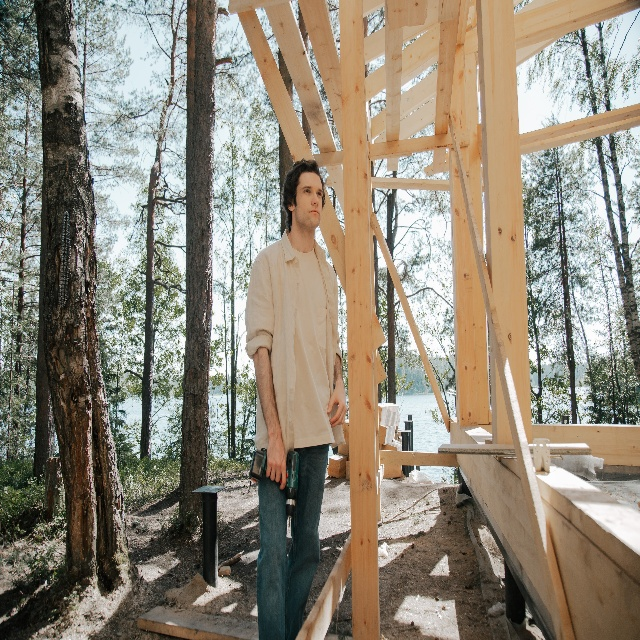Sin_guantes: (325, 380, 346, 425), (267, 435, 285, 485)
